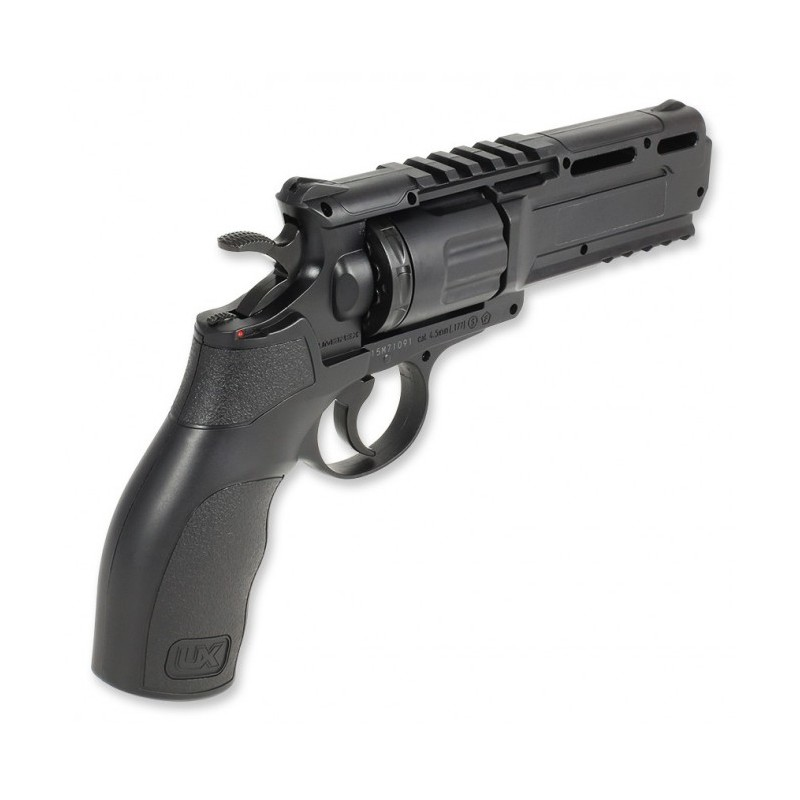Arma Real: (87, 96, 713, 701)
